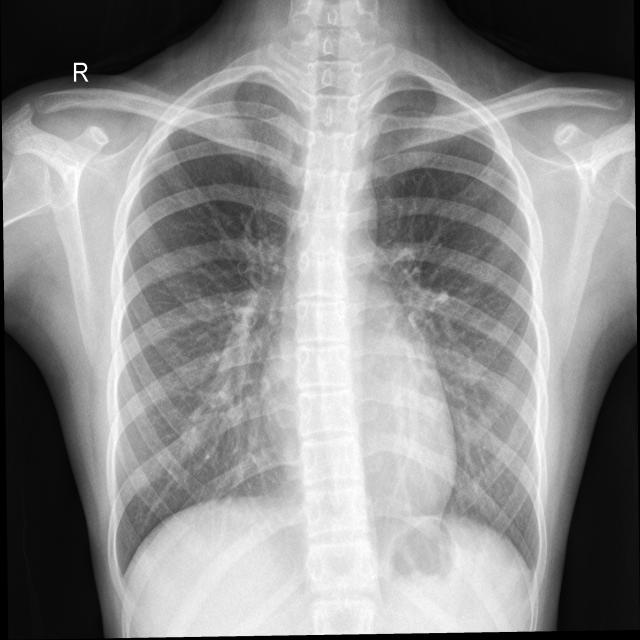no-pneumonia: (114, 62, 308, 572), (373, 73, 542, 570)
